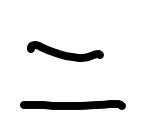eqv: (19, 40, 127, 113)
